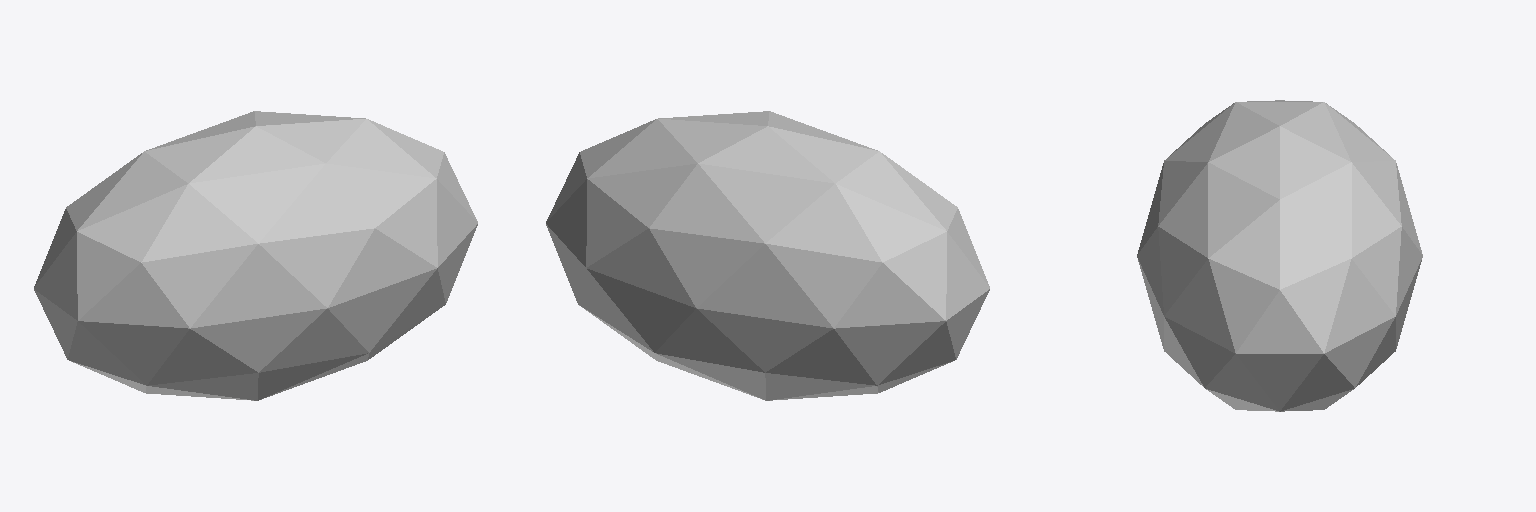
File: asteroid.obj
3 renders of one model, left to right at view 1: azimuth 30°, elevation 25°; view 2: azimuth 150°, elevation 25°; view 3: azimuth 270°, elevation 25°, orthographic.
Parts seen in each view (by area): view 1: Icosphere; view 2: Icosphere; view 3: Icosphere.
Part boxes in pixels (x1,y1,x2,y2): Icosphere: (34,111,477,400); Icosphere: (546,111,989,400); Icosphere: (1137,100,1422,411).
Size of the model in its own units: 3.23 by 2 by 2.